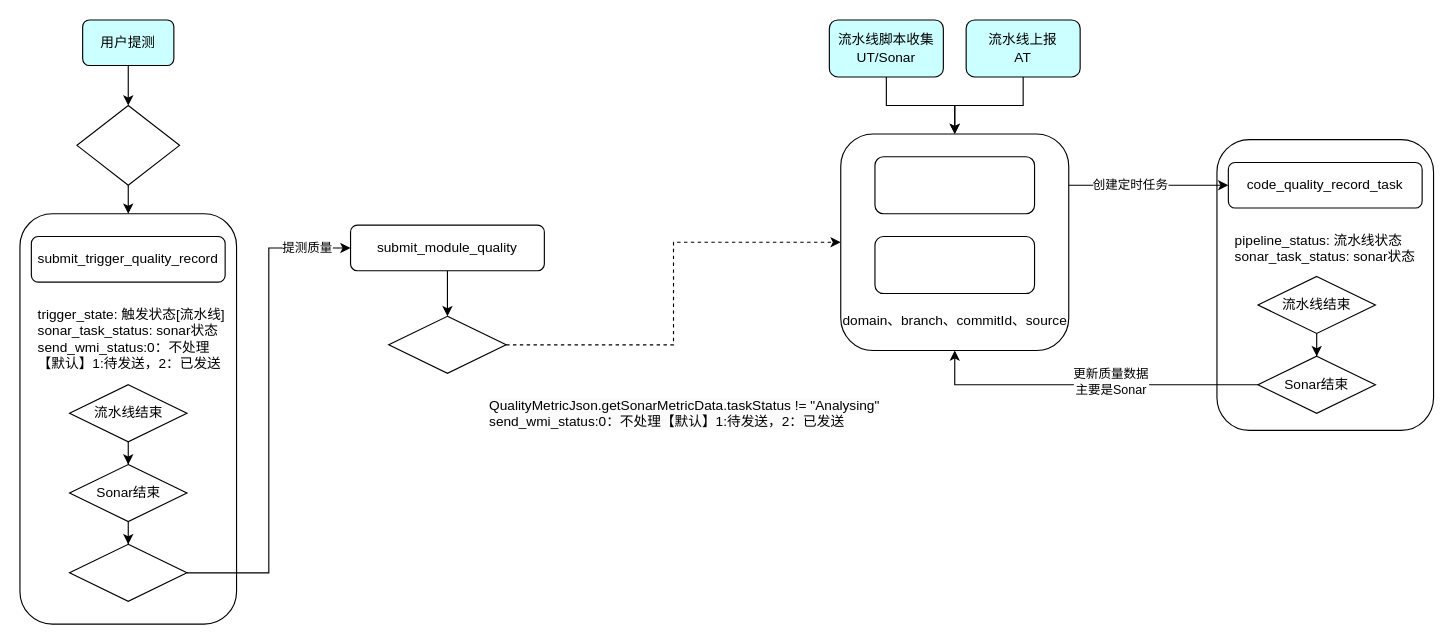
This 1454x644 diagram has some shape labels left out. The shapes that lost their labels are listed below. From the top down, each one's box as (x1, y1, x2, y2) in pixels, then its label:
(76, 104, 180, 185): 自动触发 流水线
(874, 156, 1035, 214): t_code_quality
(874, 235, 1035, 294): t_code_quality_history
(388, 315, 506, 373): 发送提测 质量报告
(68, 543, 187, 601): 提测触发
